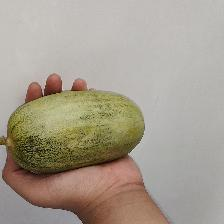gua: (20, 99, 142, 161)
